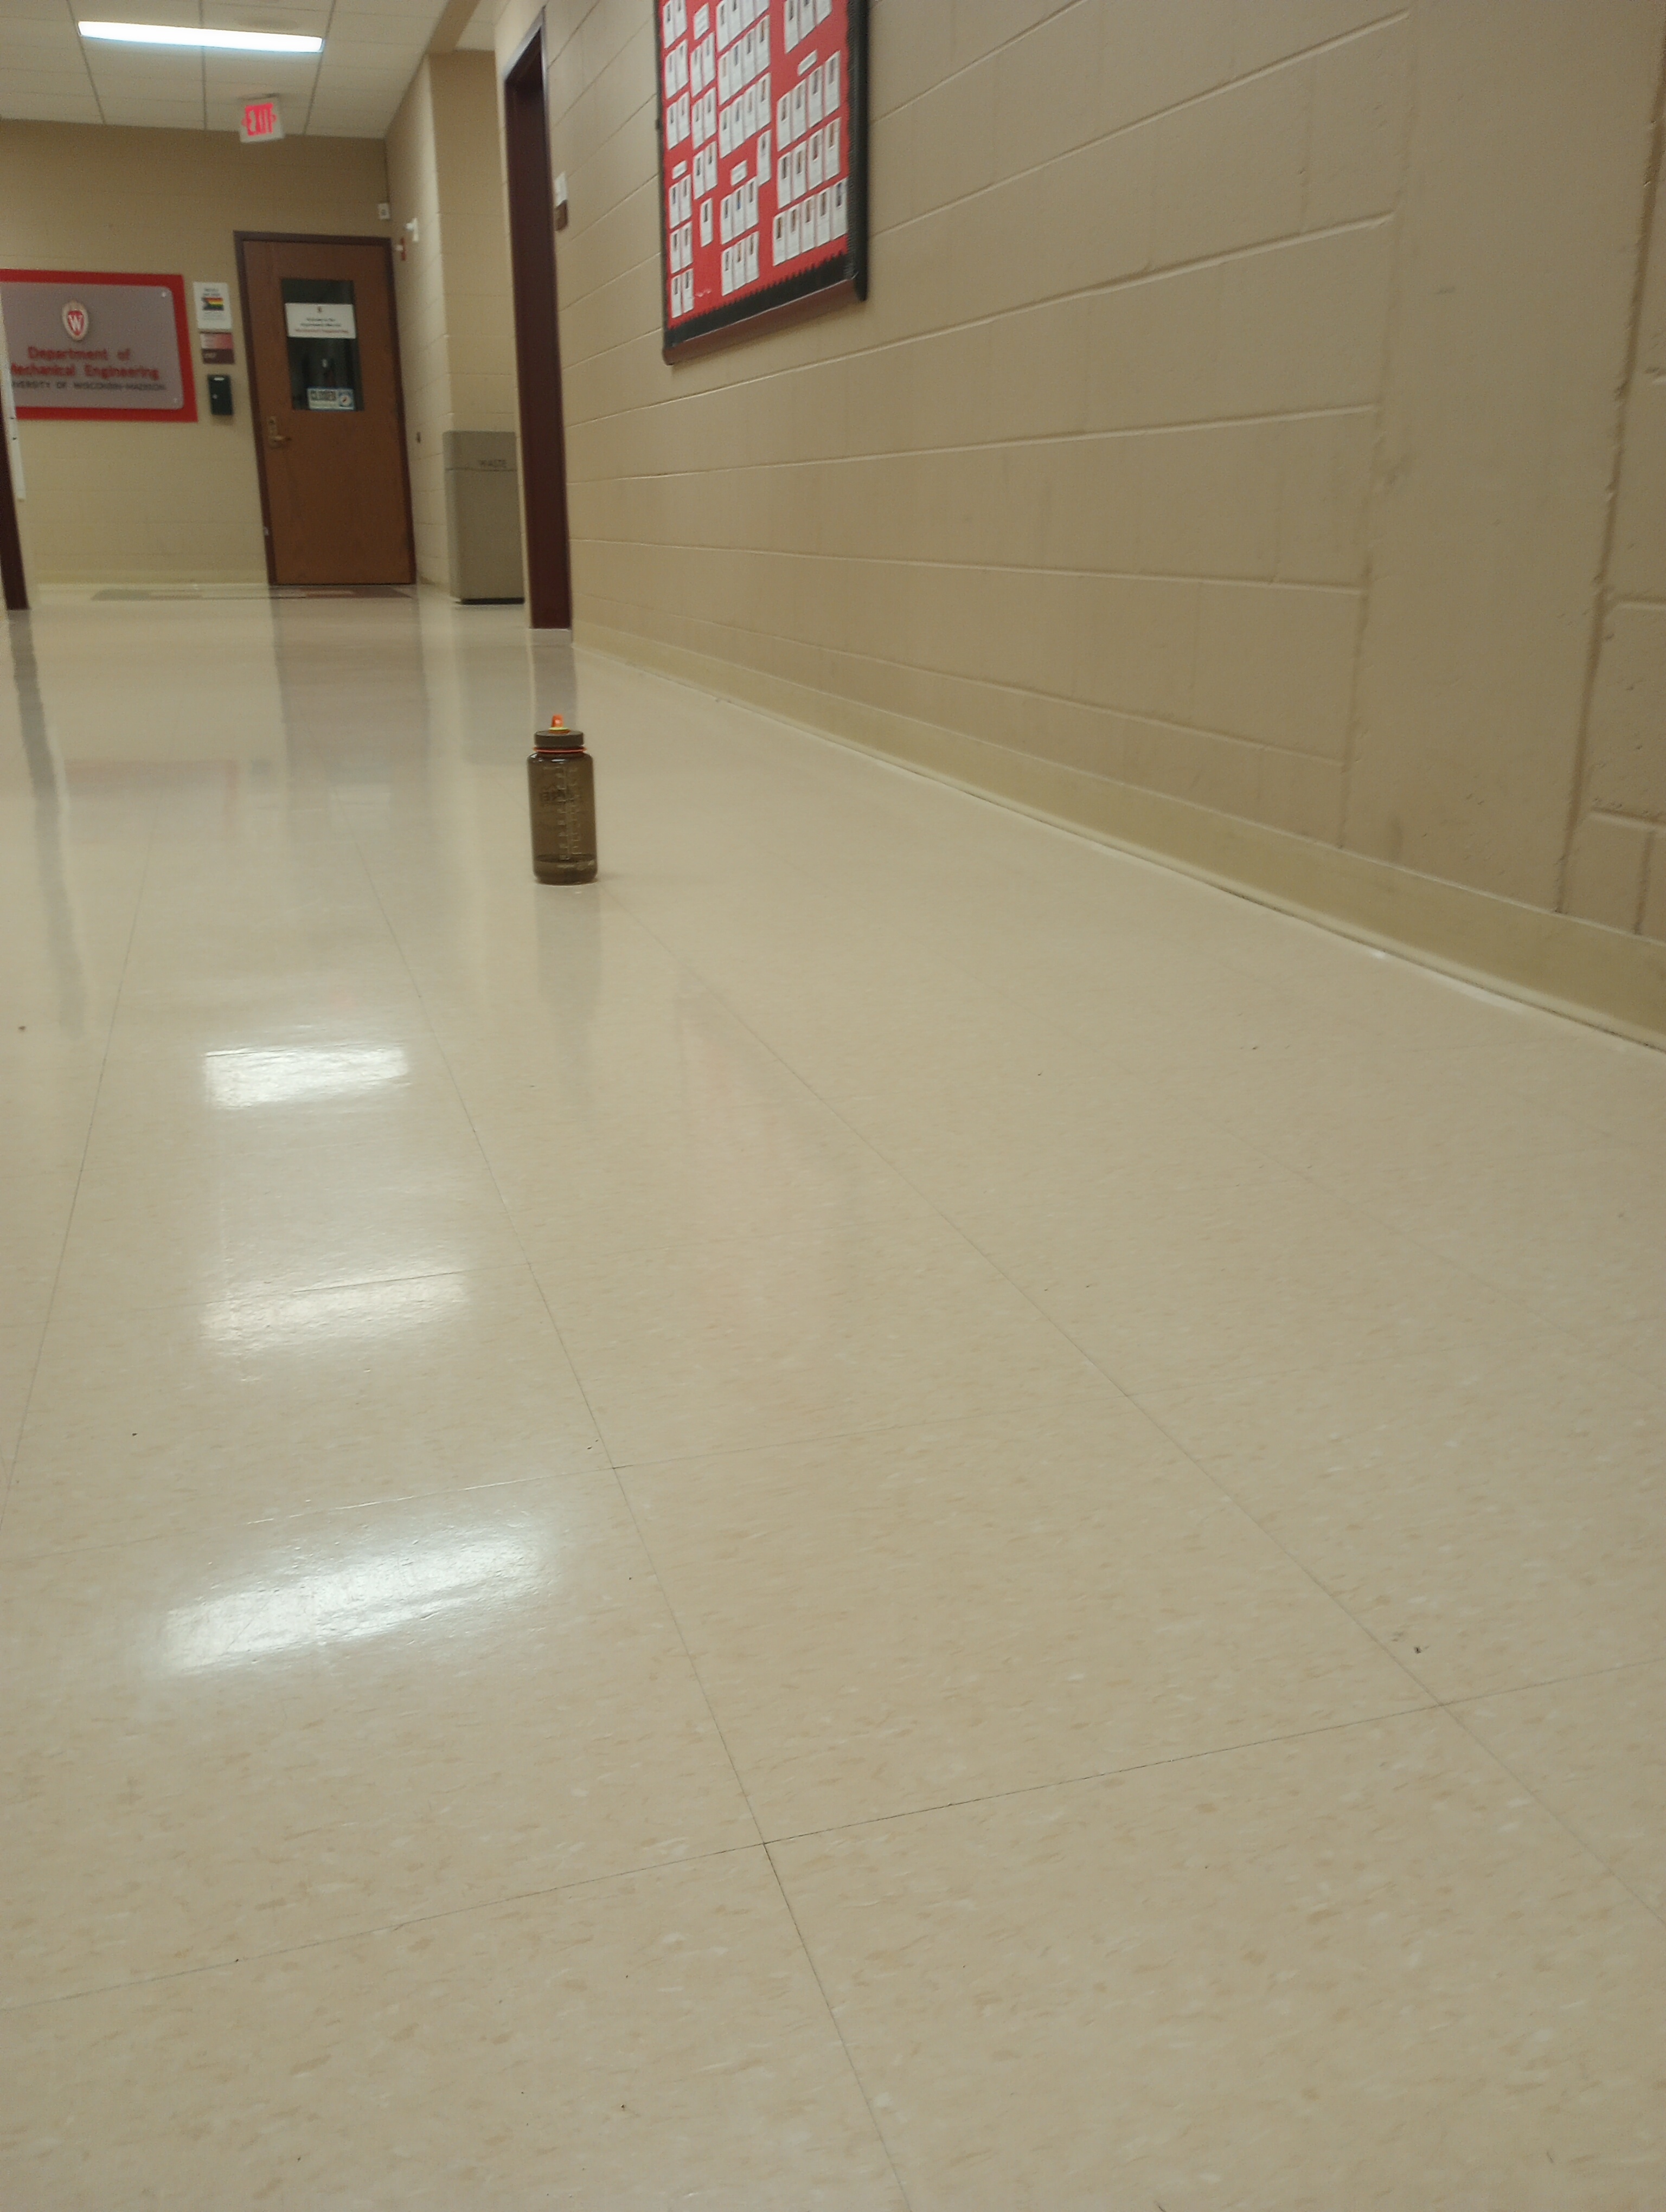bottle: (523, 701, 598, 895)
